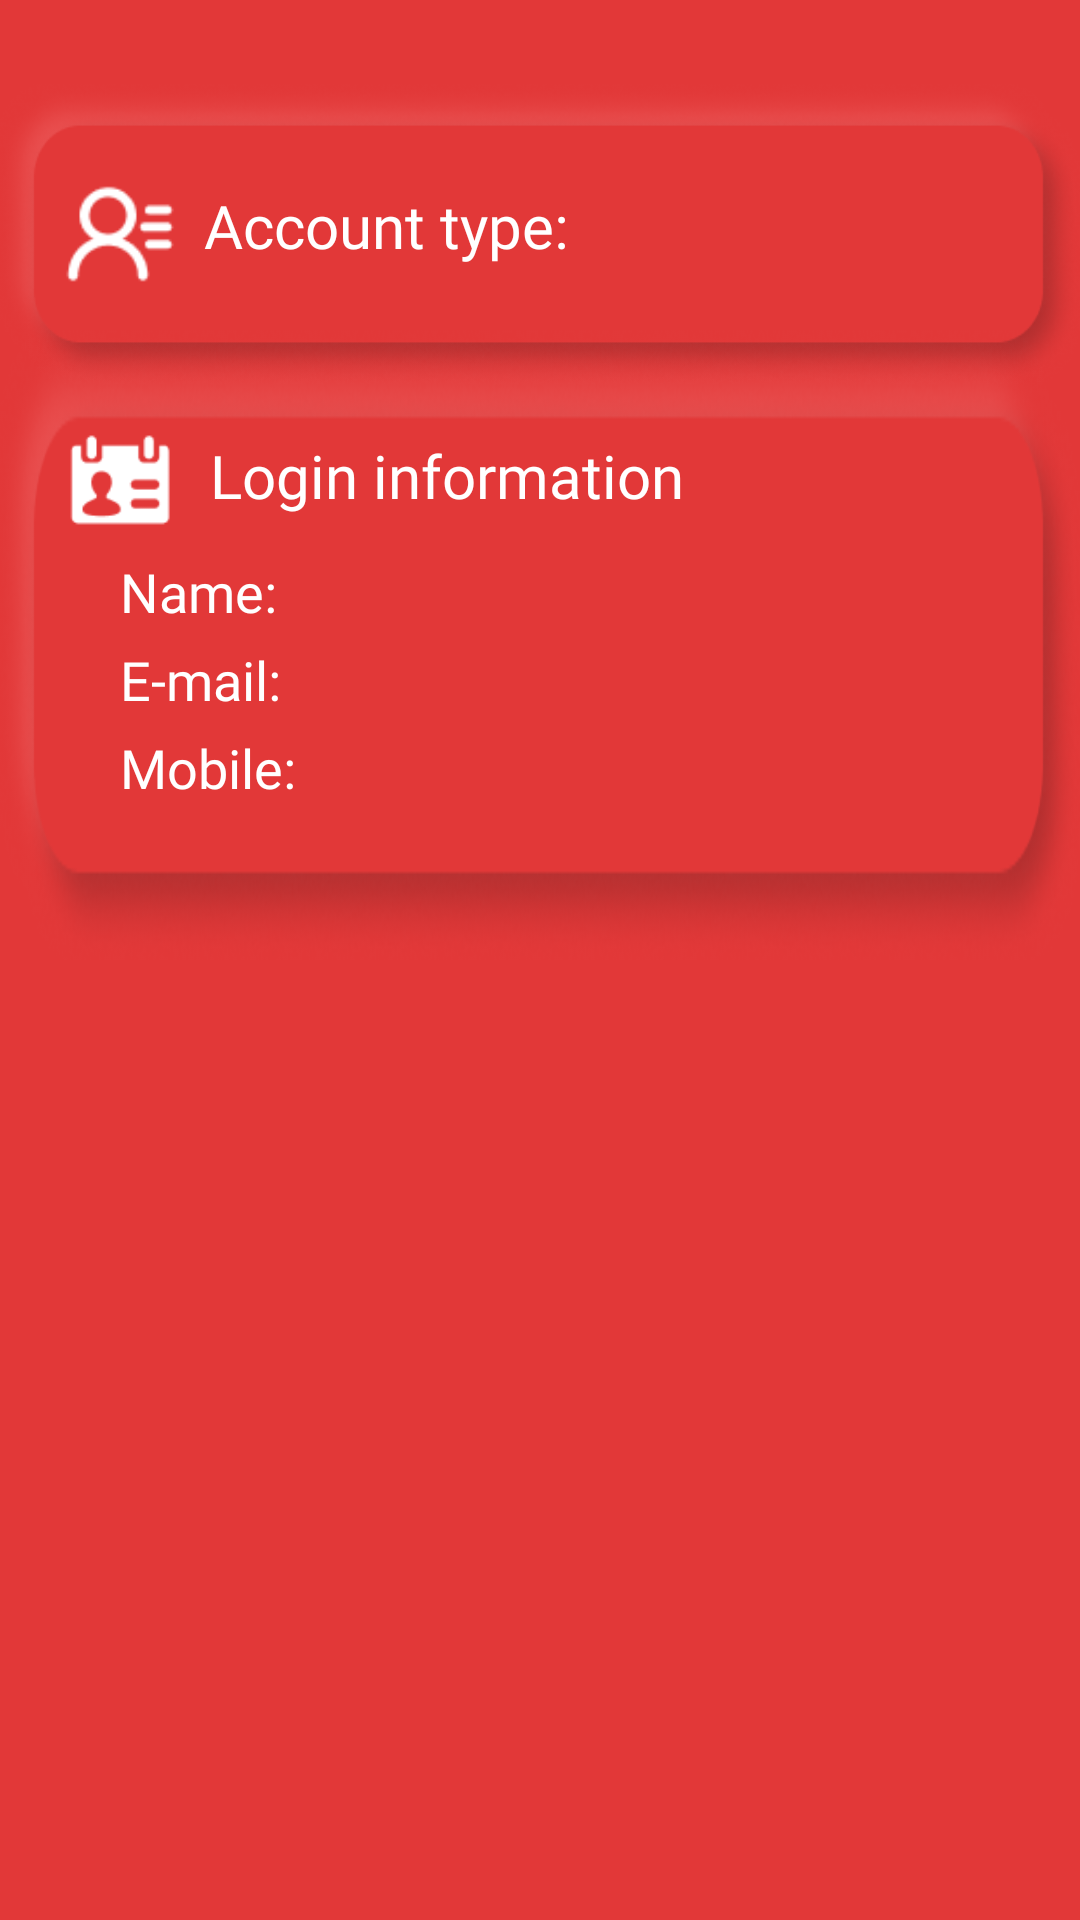

Where to tap for icons on this 1080×1920 app screen, as (x,y):
account top: (120,234)
personal info: (120,480)
